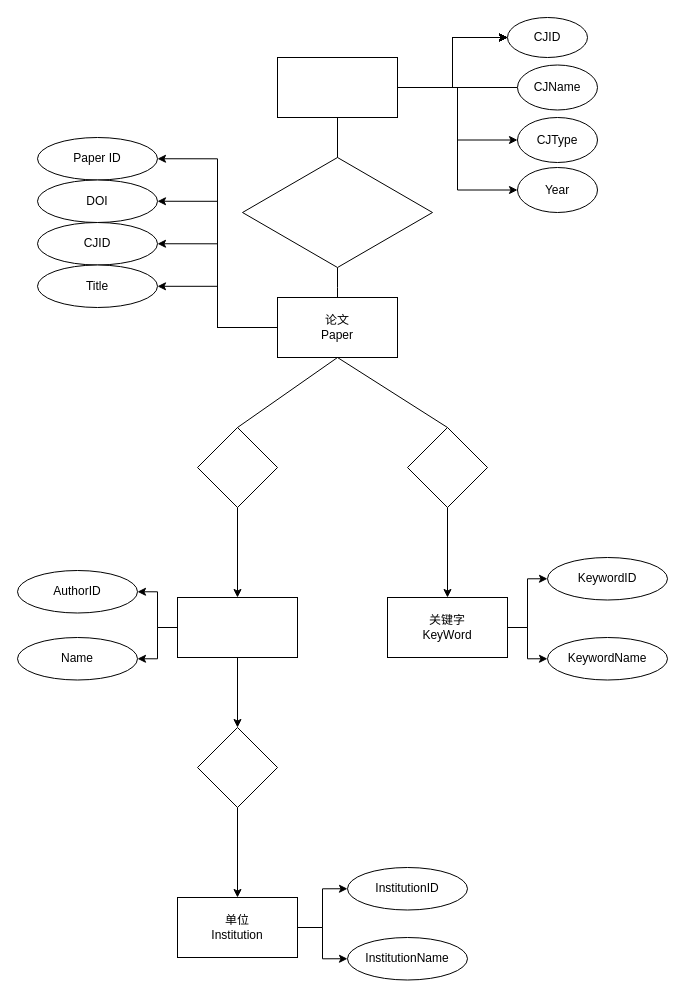
Some shapes in this 685 by 998 pixel diagram are drawn without their labels. The centre of each missing label's shape, as x and y in pixels:
会议期刊 Conference Journal: pixel 337 87
作者Author: pixel 237 627
包含 关键字: pixel 447 467
发表于: pixel 337 212
撰写: pixel 237 467
隶属于: pixel 237 767
